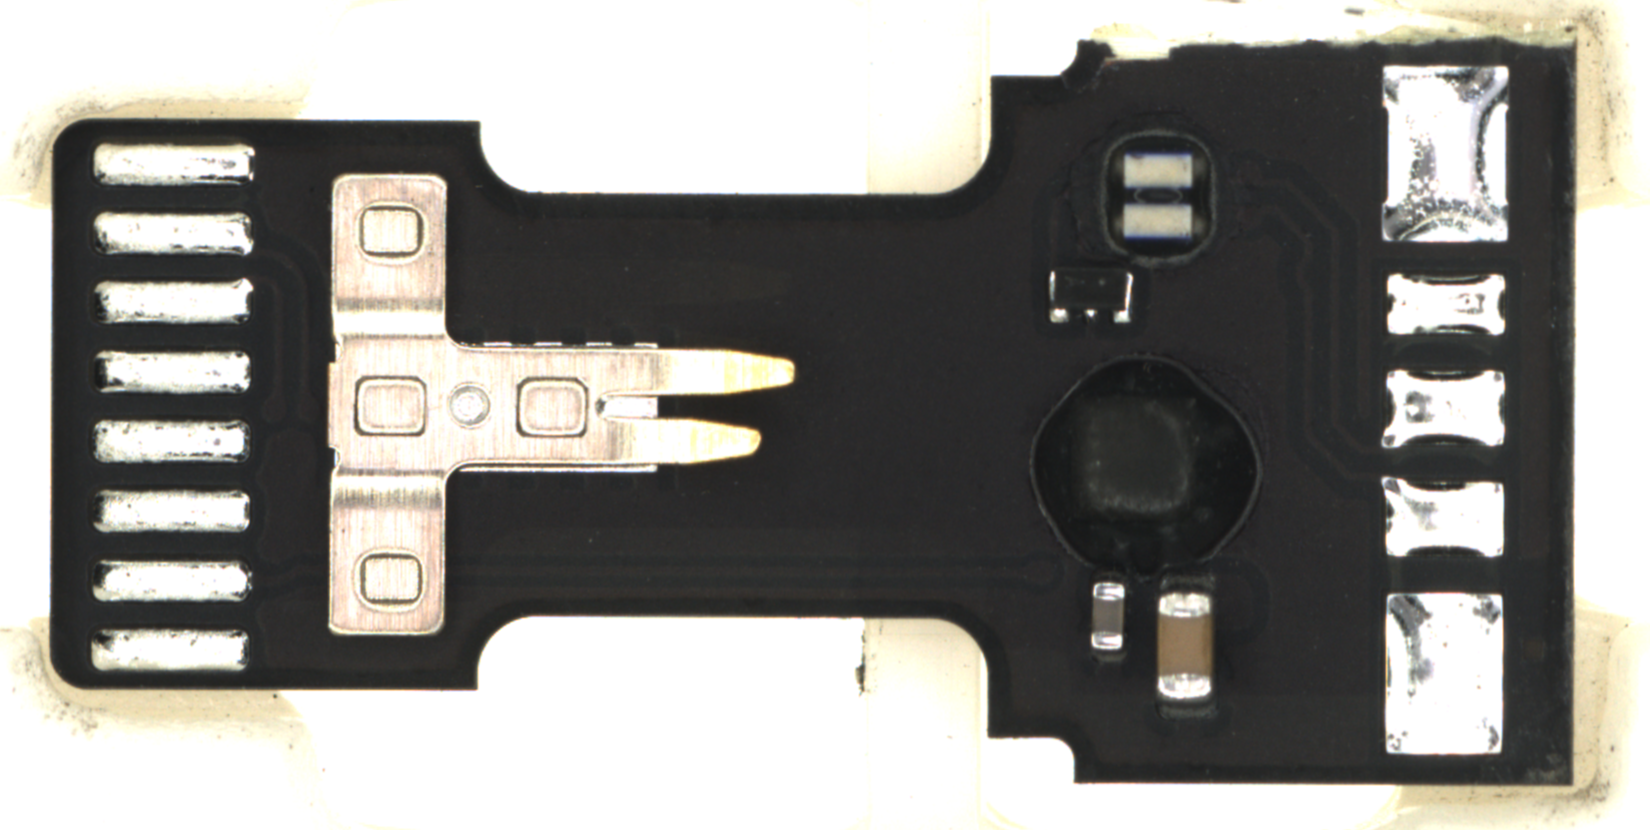edge_cutting: (1068, 28, 1590, 65)
